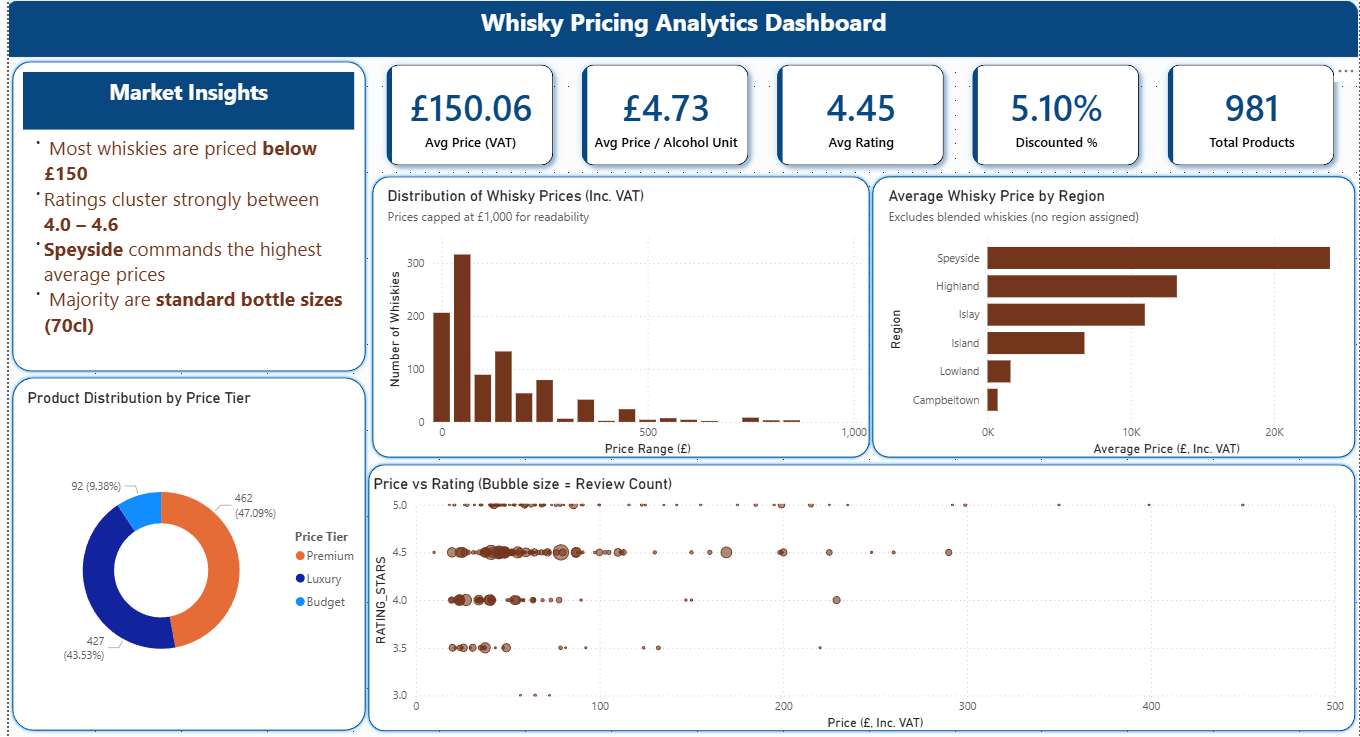

Layout of this report page (visuals, bound fields, positions):
{"tool":"powerbi","page":{"name":"Market Overview & Price Positioning","canvas":[1500,820],"ordinal":0},"visuals":[{"type":"cardVisual","fields":{"Data":["_Measures.Avg Price (VAT)","_Measures.Avg Price / Alcohol Unit","_Measures.Avg Rating","_Measures.Discounted %","_Measures.Total Products"]},"box":[396,48,1104,160],"z":0},{"type":"shape","box":[-4,0,1504,64],"z":1000},{"type":"textbox","box":[512,0,480,48],"z":2000},{"type":"shape","box":[400,192,560,320],"z":3000},{"type":"shape","box":[956,192,544,320],"z":4000},{"type":"clusteredColumnChart","title":"Distribution of Whisky Prices (Inc. VAT)","fields":{"Category":["VW_PRODUCT_LATEST.Price (GBP) Bins"],"Y":["CountNonNull(VW_PRODUCT_LATEST.PRODUCT_ID)"]},"box":[416,208,544,304],"z":5000},{"type":"clusteredBarChart","title":"Average Whisky Price by Region","fields":{"Category":["VW_PRODUCT_LATEST.REGION"],"Y":["Sum(VW_PRODUCT_LATEST.PRICE_INC_VAT_GBP)"]},"box":[972,208,528,304],"z":6000},{"type":"shape","box":[396,512,1104,304],"z":7000},{"type":"scatterChart","title":"Price vs Rating (Bubble size = Review Count)","fields":{"X":["VW_PRODUCT_LATEST.PRICE_INC_VAT_GBP"],"Y":["VW_PRODUCT_LATEST.RATING_STARS"],"Size":["Sum(VW_PRODUCT_LATEST.REVIEW_COUNT)"]},"box":[400,520,1088,288],"z":8000},{"type":"shape","box":[0,64,400,352],"z":9000},{"type":"shape","box":[0,416,400,400],"z":10000},{"type":"textbox","box":[16,72,368,64],"z":11000},{"type":"textbox","box":[16,144,368,240],"z":12000},{"type":"donutChart","title":"Product Distribution by Price Tier","fields":{"Category":["VW_PRODUCT_LATEST.PRICE_TIER"],"Y":["CountNonNull(VW_PRODUCT_LATEST.PRODUCT_ID)"]},"box":[16,432,384,384],"z":13000}]}

Visuals, with their boxes in screenshot pixels (x1, y1, x2, y2), scaled from the page's 1500x820 canvas onto the 1360x737 screenshot:
cardVisual - _Measures.Avg Price (VAT) x _Measures.Avg Price / Alcohol Unit: BBox(359, 43, 1359, 187)
shape: BBox(0, 0, 1359, 58)
textbox: BBox(464, 0, 899, 43)
shape: BBox(363, 173, 870, 460)
shape: BBox(867, 173, 1359, 460)
"Distribution of Whisky Prices (Inc. VAT)" clusteredColumnChart: BBox(377, 187, 870, 460)
"Average Whisky Price by Region" clusteredBarChart: BBox(881, 187, 1359, 460)
shape: BBox(359, 460, 1359, 733)
"Price vs Rating (Bubble size = Review Count)" scatterChart: BBox(363, 467, 1349, 726)
shape: BBox(0, 58, 363, 374)
shape: BBox(0, 374, 363, 733)
textbox: BBox(15, 65, 348, 122)
textbox: BBox(15, 129, 348, 345)
"Product Distribution by Price Tier" donutChart: BBox(15, 388, 363, 733)
